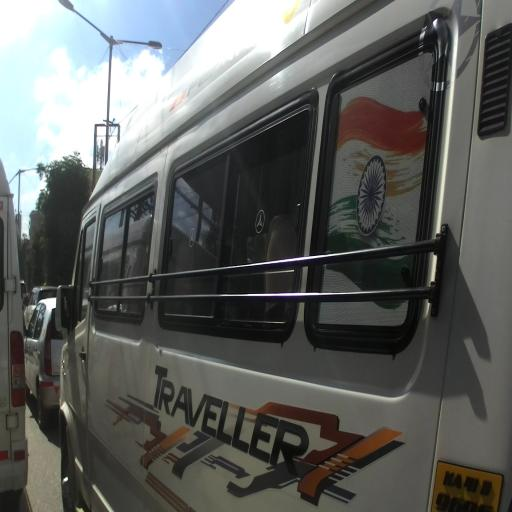street_light_0: (60, 0, 113, 56), (108, 40, 162, 58), (18, 168, 44, 177)
